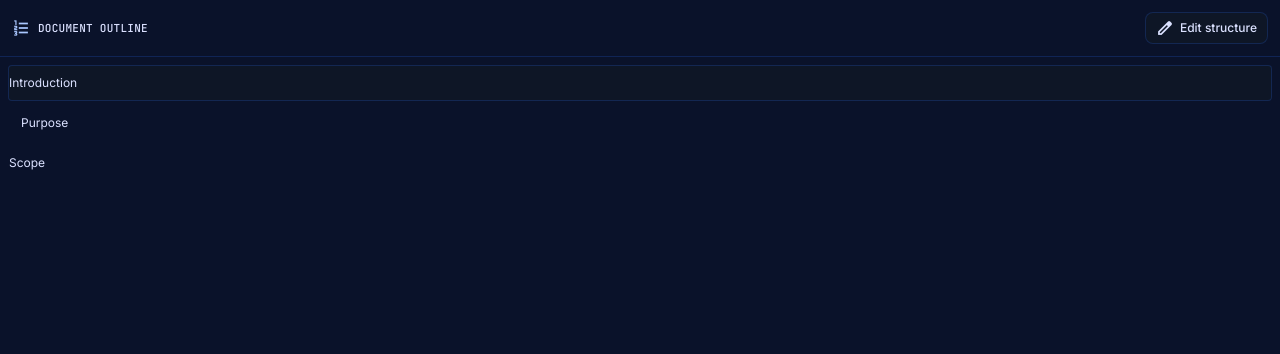
Test: Outline › edit structure › leaves edit mode with Done
The width and height of the screenshot is (1280, 354).
Click the button "Edit structure": (1206, 28) [1145, 12, 1268, 44]
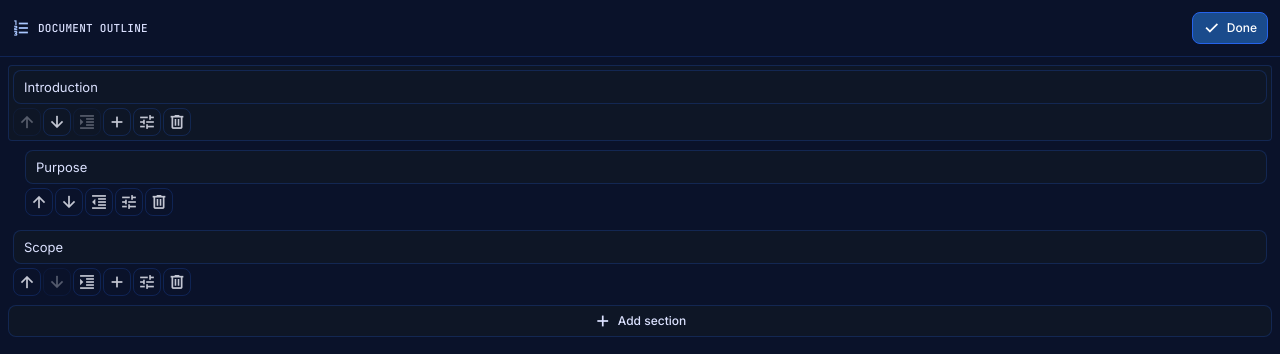
Click the button "Done": (1230, 28) [1192, 12, 1268, 44]
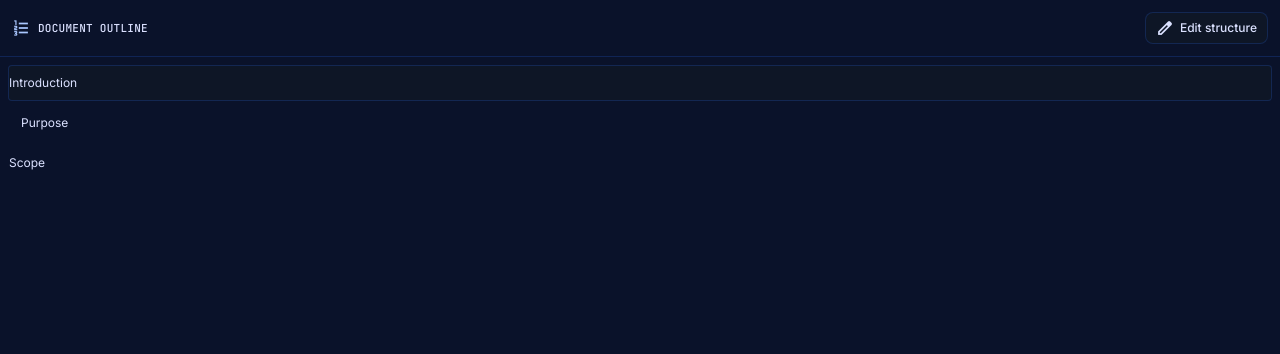
Result: the text "Scope" is shown at [9, 154, 45, 172]
